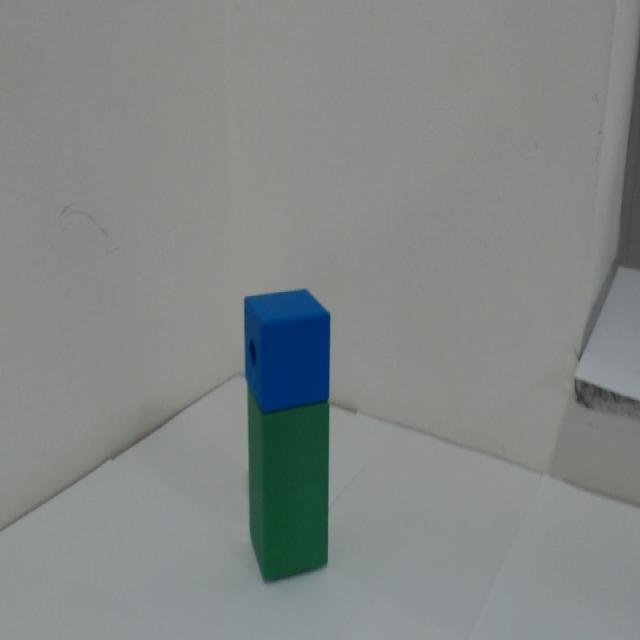cube: (222, 268, 346, 410)
